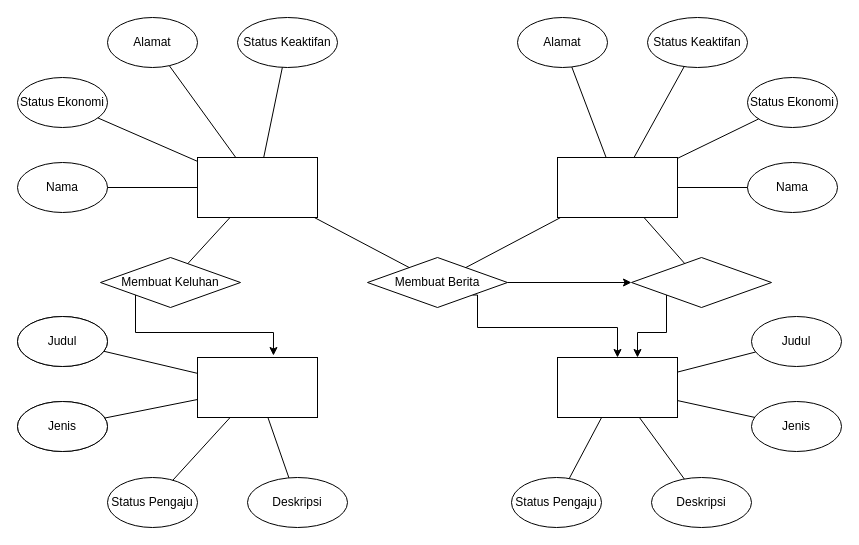
Some shapes in this 859 by 545 pixel diagram are drawn without their labels. Each missing label, with the centre of its shape:
Berita: the point at 617,387
Keluhan: the point at 257,387
Menytetujui Berita: the point at 701,282
Staff: the point at 617,187
Warga: the point at 257,187
